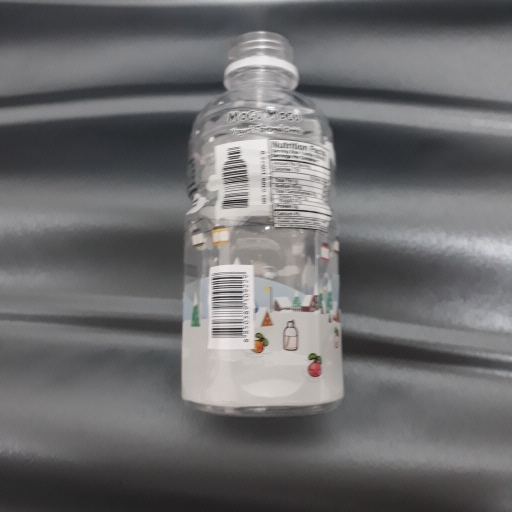Plastic_0: (170, 29, 349, 419)
